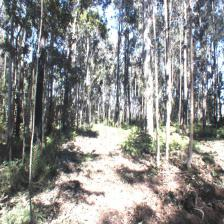trunktrack_idkeyframe: (186, 94, 194, 168), (155, 109, 160, 166)
